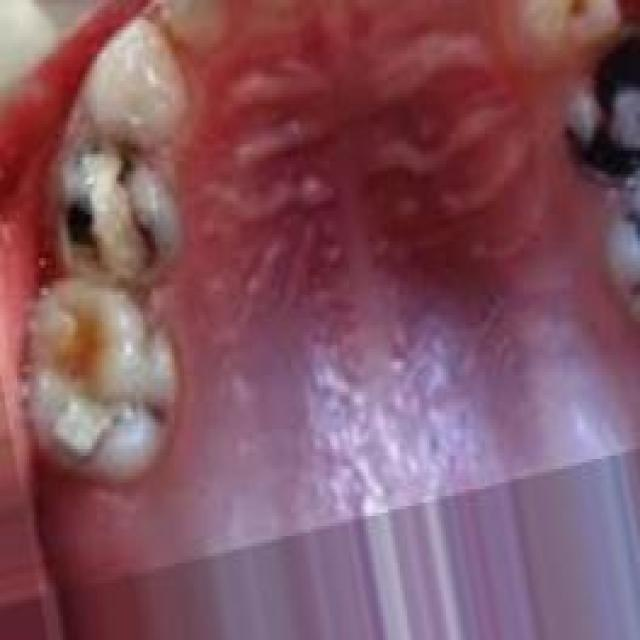caries: (38, 284, 164, 454), (54, 130, 182, 288), (563, 38, 640, 180)
